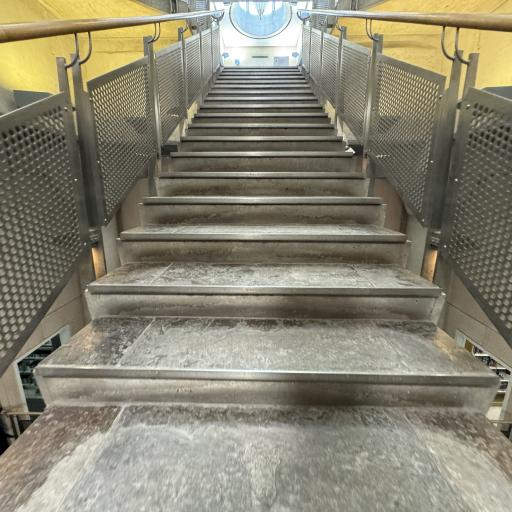Stairs: (0, 66, 512, 512), (37, 68, 497, 410)
